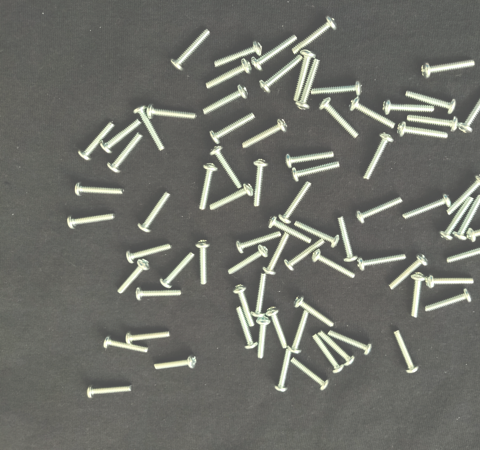longscrew: (168, 25, 214, 73), (291, 15, 339, 55), (252, 32, 299, 72), (318, 97, 361, 140), (259, 54, 304, 95), (77, 117, 117, 162), (201, 83, 250, 118), (208, 110, 258, 144), (205, 56, 255, 90), (133, 104, 168, 152), (212, 38, 264, 70), (278, 179, 314, 225), (388, 252, 429, 292), (106, 131, 144, 174), (100, 117, 143, 155), (441, 195, 475, 243), (363, 131, 395, 182), (138, 189, 174, 234), (349, 96, 398, 129), (292, 294, 338, 329), (241, 116, 288, 150), (211, 145, 245, 191), (285, 237, 328, 273), (294, 218, 342, 250), (208, 181, 256, 213), (445, 173, 480, 216), (290, 357, 333, 392), (225, 244, 270, 277), (405, 87, 458, 115), (317, 330, 357, 367), (159, 250, 196, 290), (401, 191, 452, 220), (312, 249, 358, 281), (296, 57, 323, 111), (355, 195, 405, 224), (312, 333, 346, 375), (268, 216, 314, 246), (328, 327, 374, 357), (452, 193, 480, 242), (392, 329, 421, 376), (262, 229, 291, 276), (420, 57, 478, 80), (264, 306, 293, 352), (117, 257, 152, 295), (424, 288, 474, 314), (235, 230, 285, 256), (292, 159, 342, 183), (294, 48, 316, 101), (233, 284, 258, 330), (458, 82, 480, 134), (309, 79, 366, 99), (125, 242, 174, 265), (234, 306, 259, 351), (198, 162, 220, 213), (397, 121, 450, 142), (406, 113, 461, 133), (283, 149, 338, 169), (144, 102, 199, 122), (338, 216, 360, 265), (289, 309, 312, 355), (102, 333, 150, 355), (382, 97, 437, 116), (356, 252, 408, 272), (85, 381, 136, 401), (67, 211, 117, 231), (423, 273, 478, 291), (251, 156, 269, 210), (151, 354, 199, 374), (445, 239, 480, 265), (73, 181, 126, 198), (275, 347, 294, 394), (252, 272, 270, 321), (410, 271, 428, 319), (195, 237, 212, 286), (126, 329, 174, 346), (254, 315, 272, 360), (134, 287, 184, 303), (468, 218, 480, 244)
